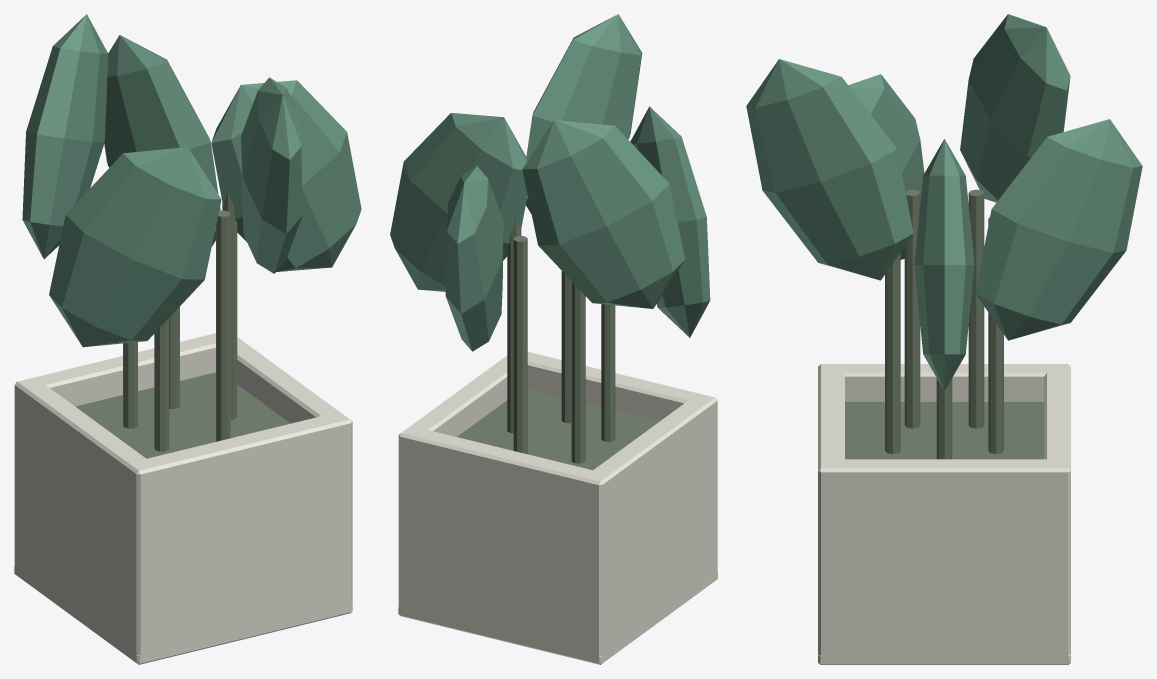
Rendered from broadleaf_square_planter.glb.
3 renders of one model, left to right at view 1: azimuth 30°, elevation 25°; view 2: azimuth 150°, elevation 25°; view 3: azimuth 270°, elevation 25°, orthographic. The views are drawn at different scales.
Visible parts, largest first — view 1: broad_leaf (×5), planter_wall (×2), planter_side (×2), stem (×5), soil, planter_floor; view 2: broad_leaf (×5), planter_wall (×2), planter_side (×2), stem (×5), soil, planter_floor; view 3: broad_leaf (×5), planter_side (×2), stem (×5), planter_wall (×2), soil, planter_floor.
Part boxes in pixels (bbox=[...]): broad_leaf (×5): bbox=[22, 14, 361, 347]; planter_wall (×2): bbox=[14, 333, 351, 661]; planter_side (×2): bbox=[14, 333, 352, 661]; stem (×5): bbox=[123, 191, 237, 451]; soil: bbox=[75, 372, 290, 458]; planter_floor: bbox=[14, 566, 352, 664]; broad_leaf (×5): bbox=[390, 14, 710, 351]; planter_wall (×2): bbox=[400, 352, 717, 662]; planter_side (×2): bbox=[398, 352, 717, 662]; stem (×5): bbox=[507, 217, 615, 463]; soil: bbox=[457, 388, 659, 470]; planter_floor: bbox=[398, 572, 717, 664]; broad_leaf (×5): bbox=[746, 14, 1142, 390]; planter_side (×2): bbox=[818, 364, 1070, 657]; stem (×5): bbox=[885, 189, 1003, 459]; planter_wall (×2): bbox=[818, 364, 1070, 657]; soil: bbox=[845, 402, 1043, 459]; planter_floor: bbox=[818, 654, 1070, 664].
Bounding box in the file's own units: 0.626 × 1.03 × 0.6583.
